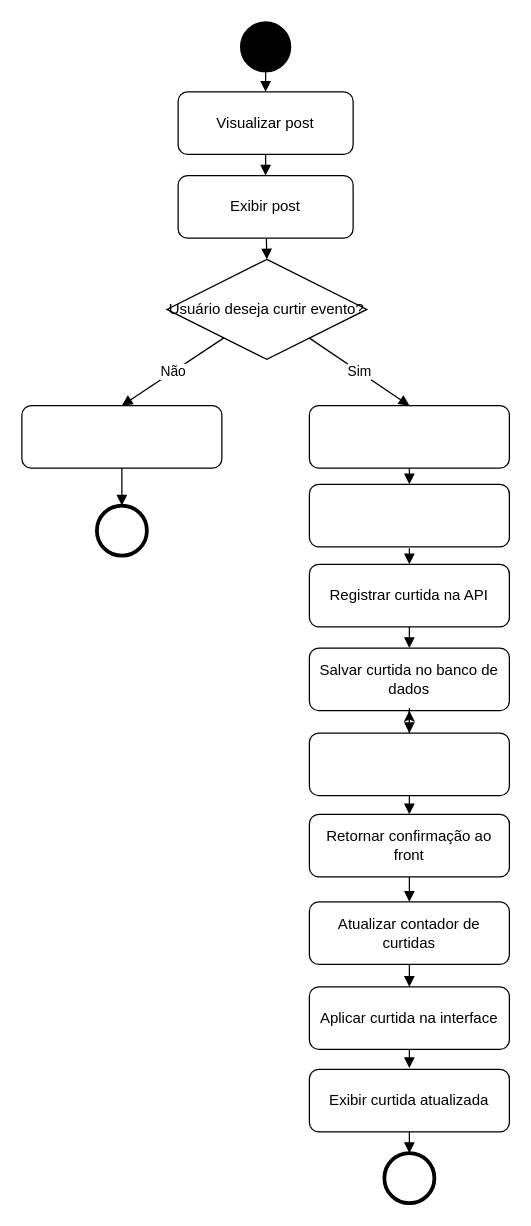
The diagram is 531 pixels wide and 1226 high, and some of its shapes have lost their labels. The shapes that lost their labels are listed below. From the top down, each one's centre as x and y in pixels, then its label:
At (121,436): "(continua navegação sem ação)".
At (408,436): "Acionar ação de curtir post".
At (408,515): "Enviar curtida para o backend".
At (408,764): "Receber confirmação de sucesso".
